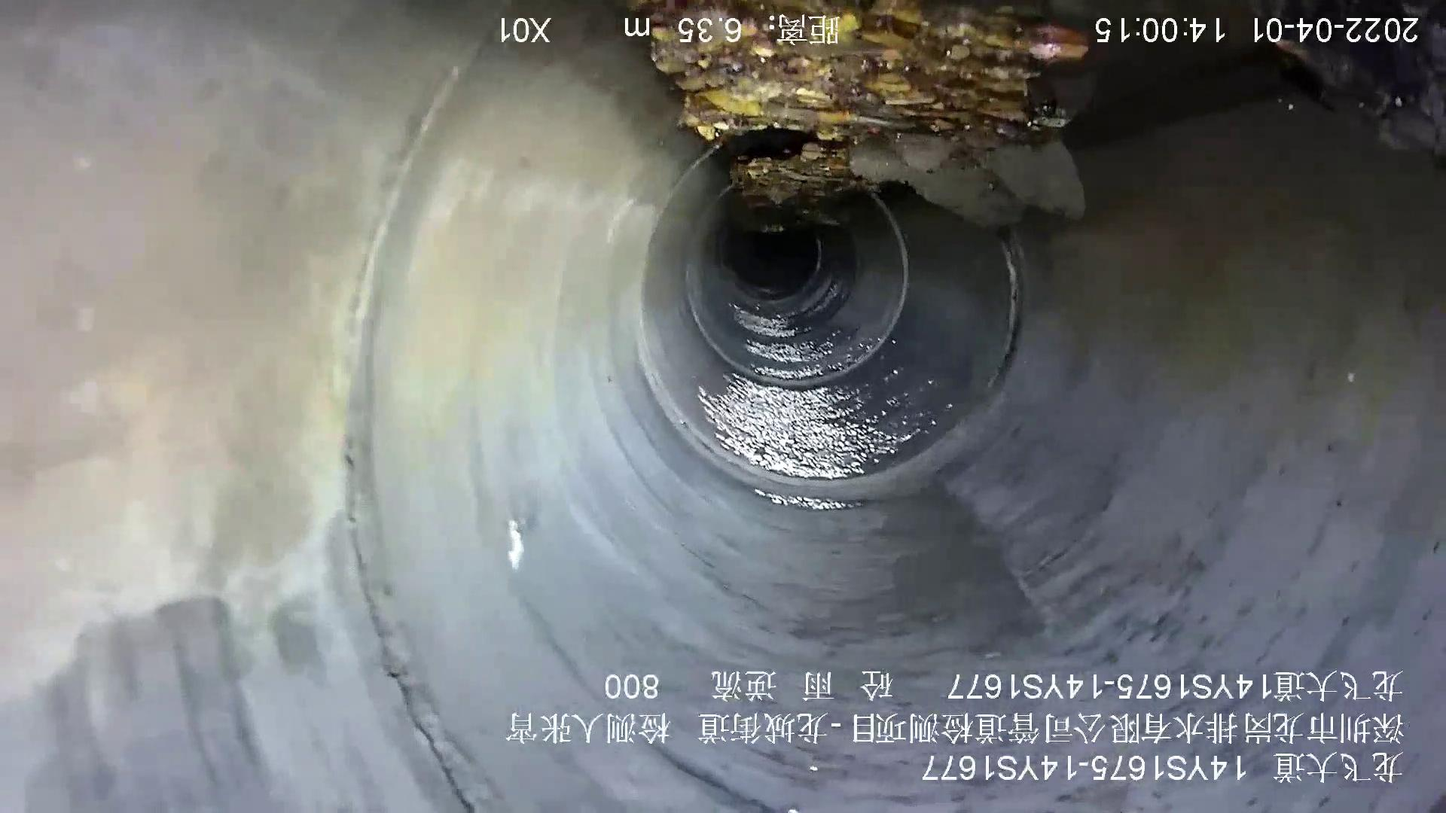CJ: (624, 1, 1088, 226), (883, 101, 892, 105)
CKTJ: (634, 137, 1026, 494), (679, 178, 914, 391)
